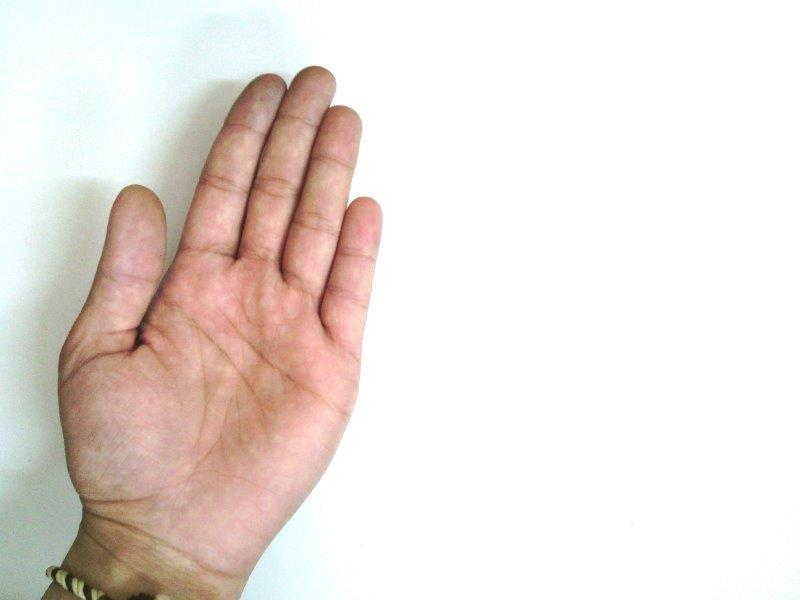hand: (56, 67, 383, 556)
